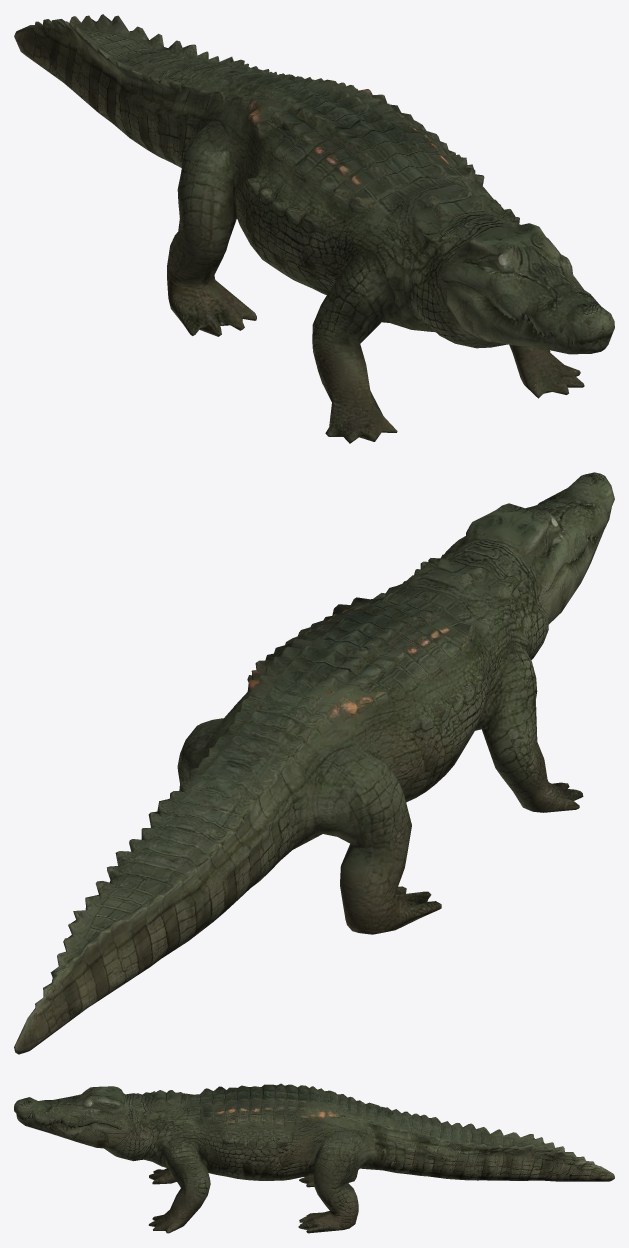
The model's file is croc.glb.
3 renders of one model, top to bottom at view 1: azimuth 30°, elevation 25°; view 2: azimuth 150°, elevation 25°; view 3: azimuth 270°, elevation 25°, orthographic. The views are drawn at different scales.
Parts seen in each view (by area): view 1: Mesh_0; view 2: Mesh_0; view 3: Mesh_0.
Boxes of the visible parts, left/top/right/bottom form: Mesh_0: left=14, top=14, right=614, bottom=443; Mesh_0: left=14, top=472, right=614, bottom=1054; Mesh_0: left=14, top=1083, right=614, bottom=1233.
Bounding box in the file's own units: 0.4733 × 0.3893 × 1.9.
1 material, 1 textured.
